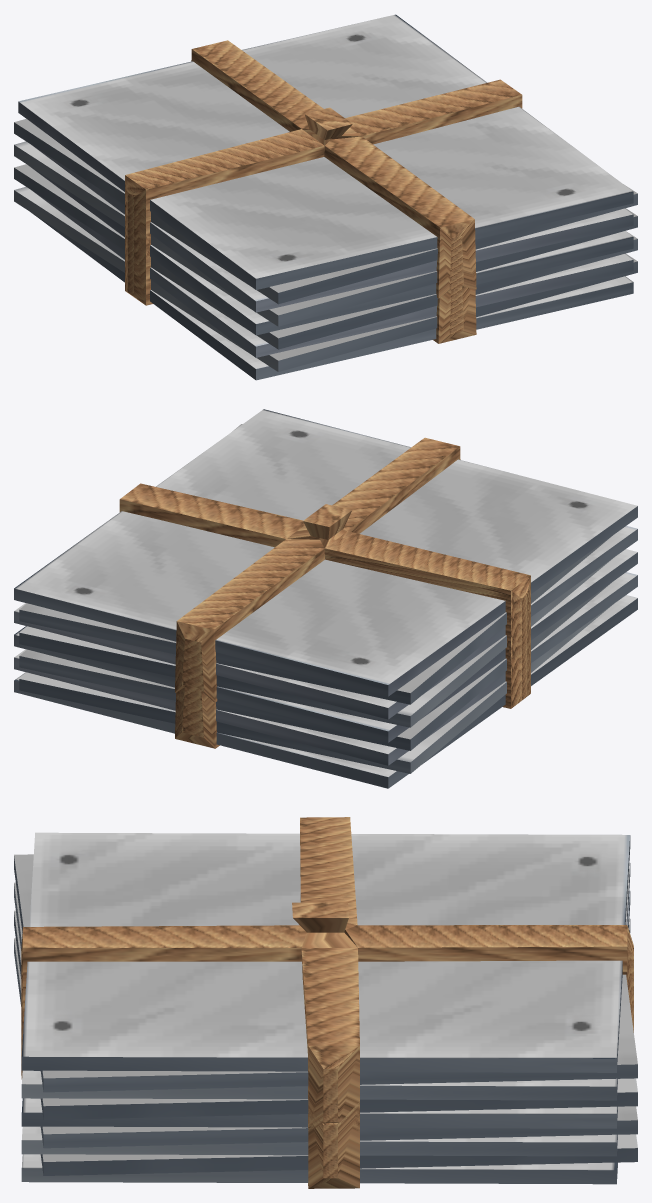
File: CSR_BoundSmallMetalSheets10.fbx
3 renders of one model, top to bottom at view 1: azimuth 30°, elevation 25°; view 2: azimuth 150°, elevation 25°; view 3: azimuth 270°, elevation 25°, orthographic. The views are drawn at different scales.
Parts seen in each view (by area): view 1: Small Metal Sheets x10; view 2: Small Metal Sheets x10; view 3: Small Metal Sheets x10.
Boxes of the visible parts, x1=… form: Small Metal Sheets x10: x1=14, y1=14, x2=637, y2=380; Small Metal Sheets x10: x1=14, y1=409, x2=637, y2=788; Small Metal Sheets x10: x1=14, y1=817, x2=637, y2=1188.
Size of the model in its own units: 0.2526 by 0.0819 by 0.2803.
1 material, 1 textured.
